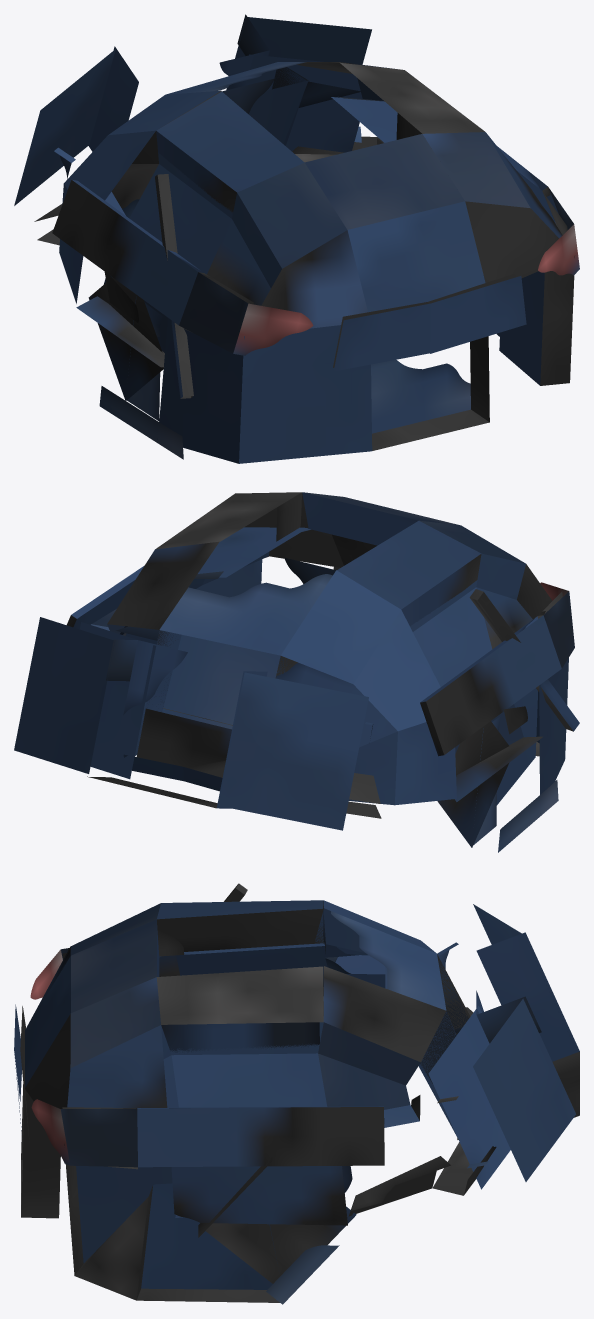
The model's file is press_h.obj.
3 views of the same model, one above another, from view 1: azimuth 30°, elevation 25°; view 2: azimuth 150°, elevation 25°; view 3: azimuth 270°, elevation 25° (orthographic).
Parts seen in each view (by area): view 1: cube; view 2: cube; view 3: cube.
Part boxes in pixels (x1=…): cube: x1=14, y1=14, x2=579, y2=463; cube: x1=14, y1=492, x2=579, y2=852; cube: x1=14, y1=883, x2=579, y2=1304.
Size of the model in its own units: 0.7719 by 0.4919 by 0.932.
